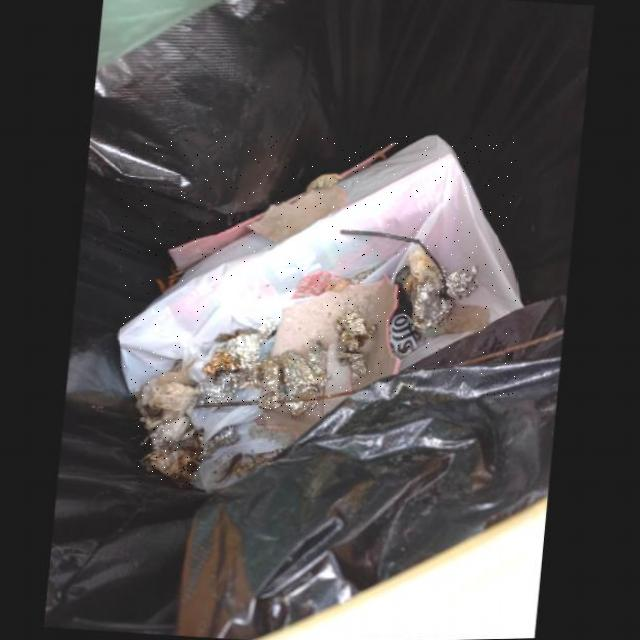metal: (395, 248, 479, 329), (200, 315, 276, 404), (259, 345, 329, 420), (137, 418, 204, 486), (337, 307, 378, 377)
plastic: (121, 135, 517, 396)
